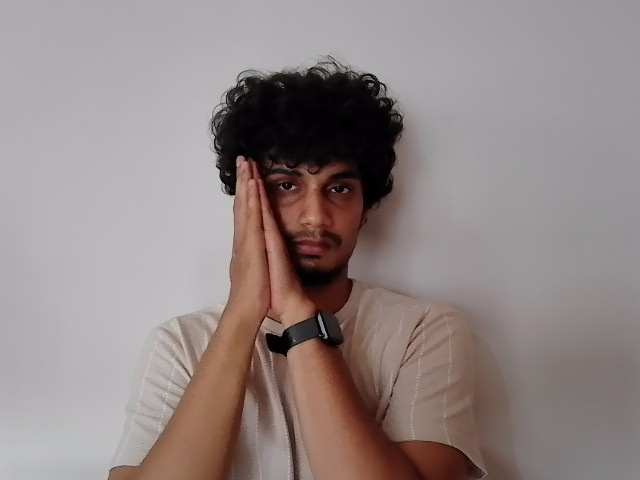sleep: (227, 154, 320, 319)
